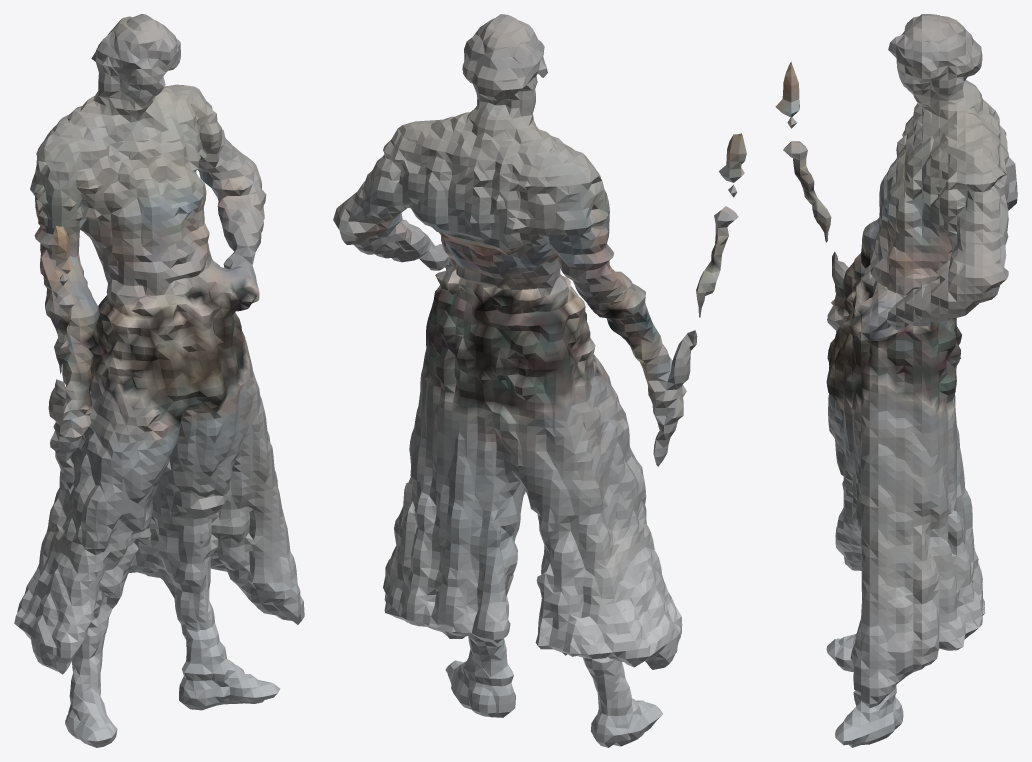
Rendered from kain-triposr-v1.glb.
The picture shows the model from 3 angles, left to right: view 1: azimuth 30°, elevation 25°; view 2: azimuth 150°, elevation 25°; view 3: azimuth 270°, elevation 25°; orthographic projection. The views are drawn at different scales.
Parts seen in each view (by area): view 1: world; view 2: world; view 3: world.
Part boxes in pixels (x1,y1,x2,y2): world: (14,14,304,747); world: (333,14,746,747); world: (775,14,1017,747).
Bounding box in the file's own units: 0.8012 × 1.78 × 0.5617.
